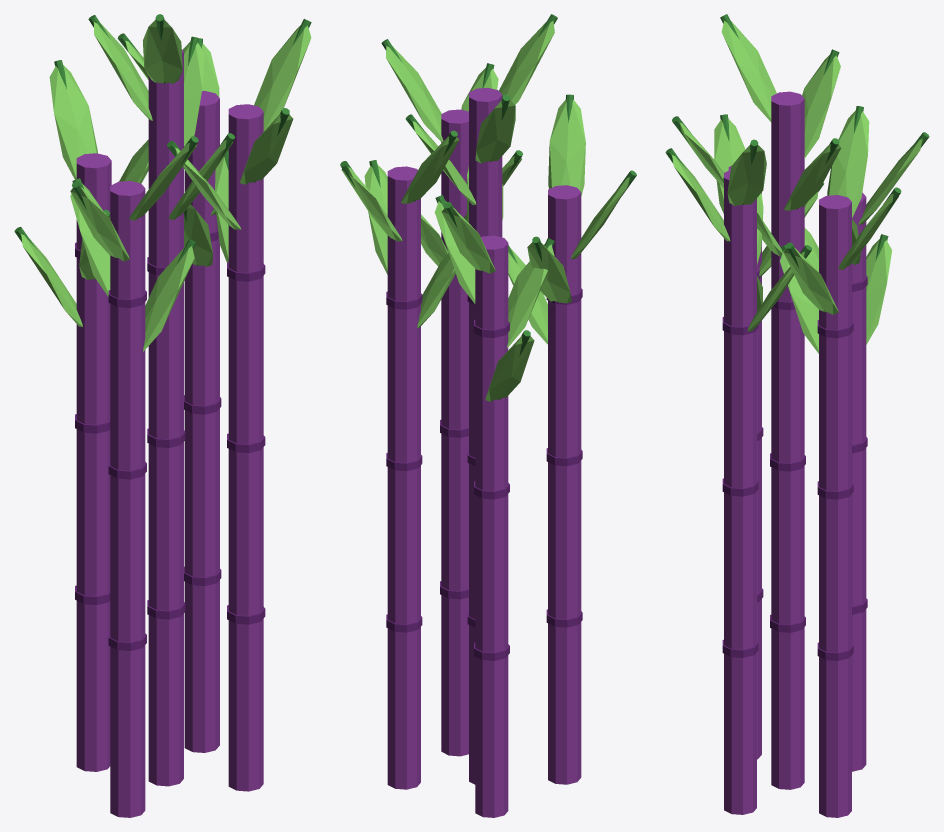
The model's file is Sugarcane.glb.
3 renders of one model, left to right at view 1: azimuth 30°, elevation 25°; view 2: azimuth 150°, elevation 25°; view 3: azimuth 270°, elevation 25°, orthographic. The views are drawn at different scales.
Visible parts, largest first — view 1: FTF_Plant_Sugarcane_Tall_Mature_Mesh; view 2: FTF_Plant_Sugarcane_Tall_Mature_Mesh; view 3: FTF_Plant_Sugarcane_Tall_Mature_Mesh.
Boxes of the visible parts, <box> form: FTF_Plant_Sugarcane_Tall_Mature_Mesh: <box>14,14,311,817</box>; FTF_Plant_Sugarcane_Tall_Mature_Mesh: <box>340,14,636,817</box>; FTF_Plant_Sugarcane_Tall_Mature_Mesh: <box>665,14,929,817</box>.
Bounding box in the file's own units: 1.16 × 3.49 × 1.11.
